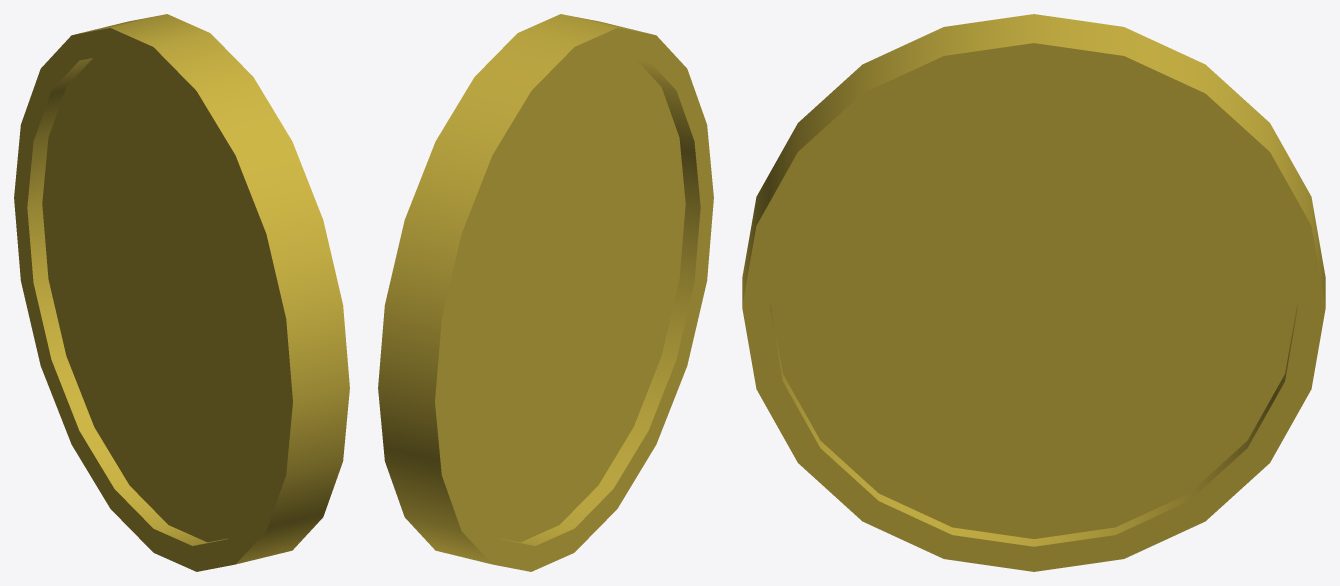
The model's file is Coin.fbx.
3 renders of one model, left to right at view 1: azimuth 30°, elevation 25°; view 2: azimuth 150°, elevation 25°; view 3: azimuth 270°, elevation 25°, orthographic. The views are drawn at different scales.
Visible parts, largest first — view 1: Coin; view 2: Coin; view 3: Coin.
Boxes of the visible parts, x1,y1,x2,y2 form: Coin: [14, 14, 349, 571]; Coin: [378, 14, 713, 571]; Coin: [742, 14, 1325, 571].
Bounding box in the file's own units: 1.83 × 15.51 × 15.51.
